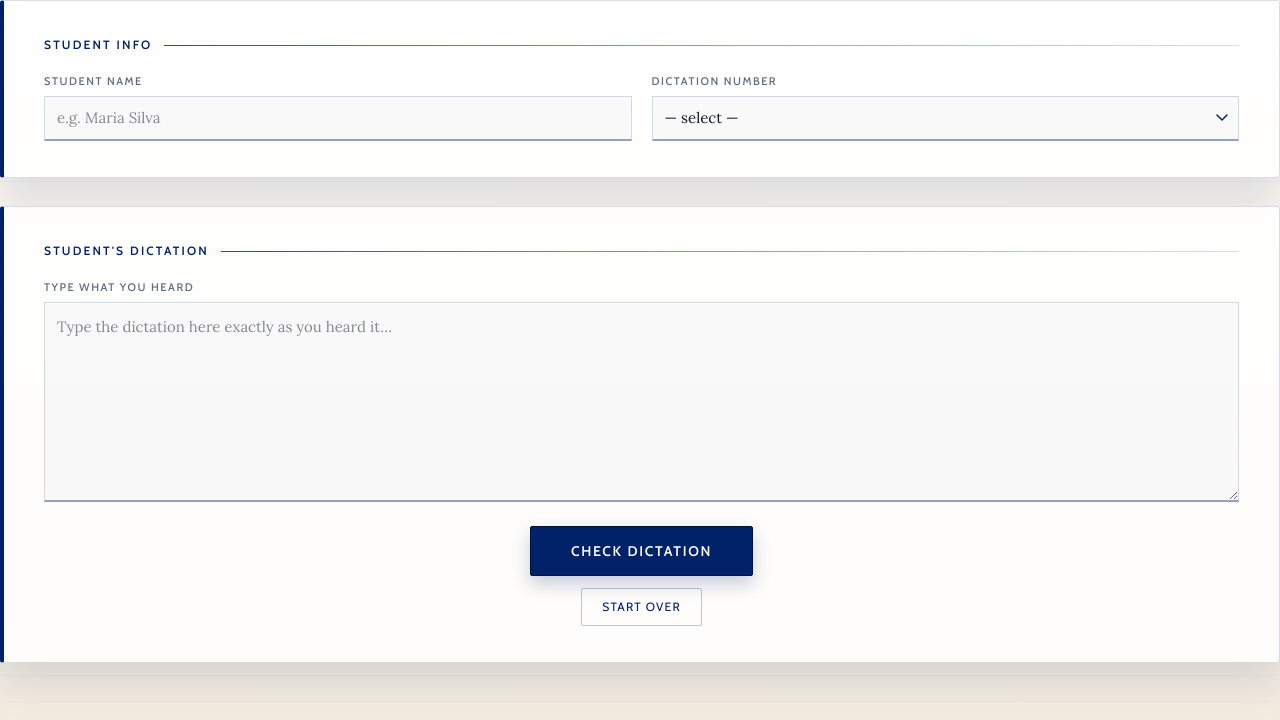
Test: DictationChecker › validation › asks for the text when it is blank
Type "Maria Silva" into the field labelled "Student Name" at [338, 118], box [44,96,632,141]
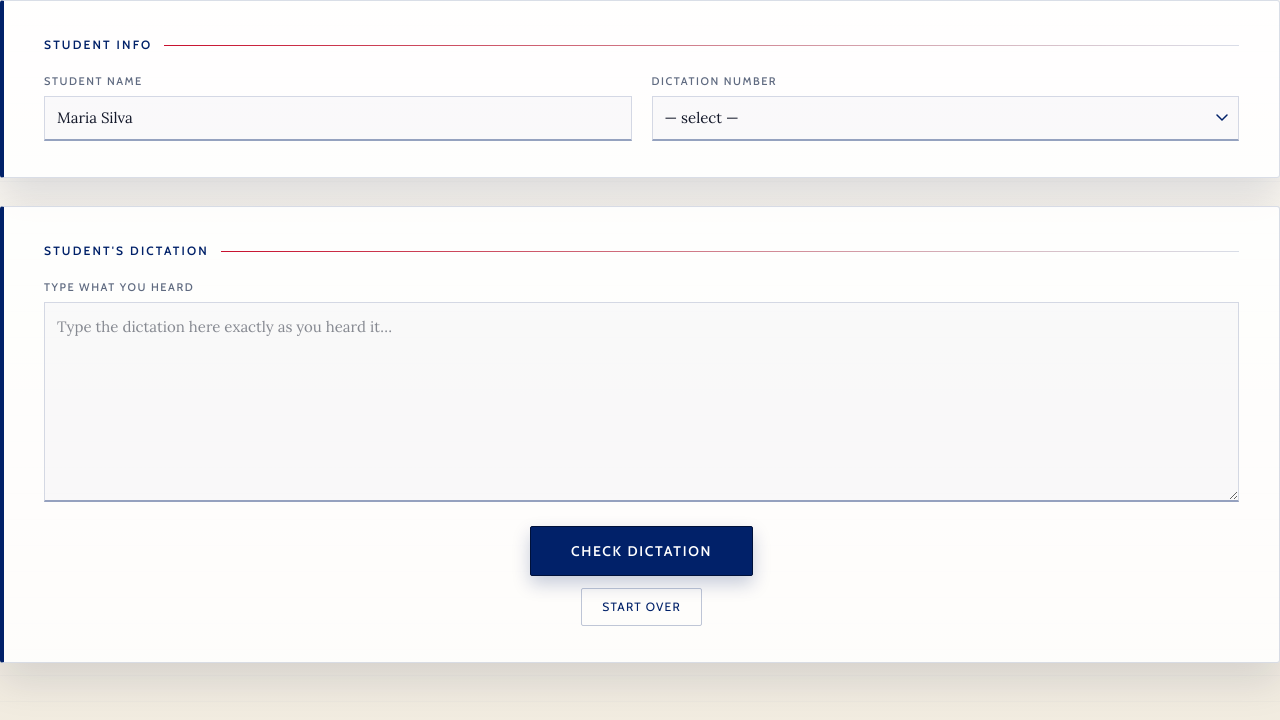
Select "Dictation 118" in the dropdown labelled "Dictation Number" at [945, 118], box [652,96,1239,141]
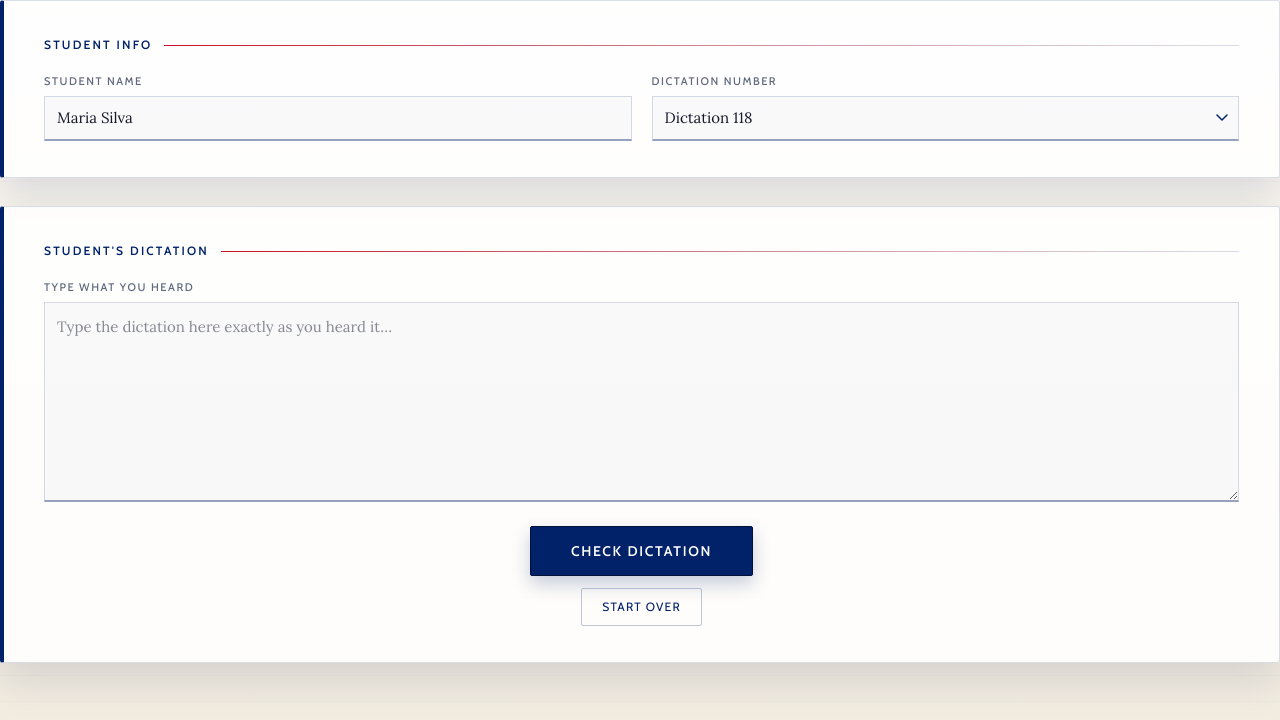
Click the button "Check Dictation" at [642, 550], box [530,526,753,576]
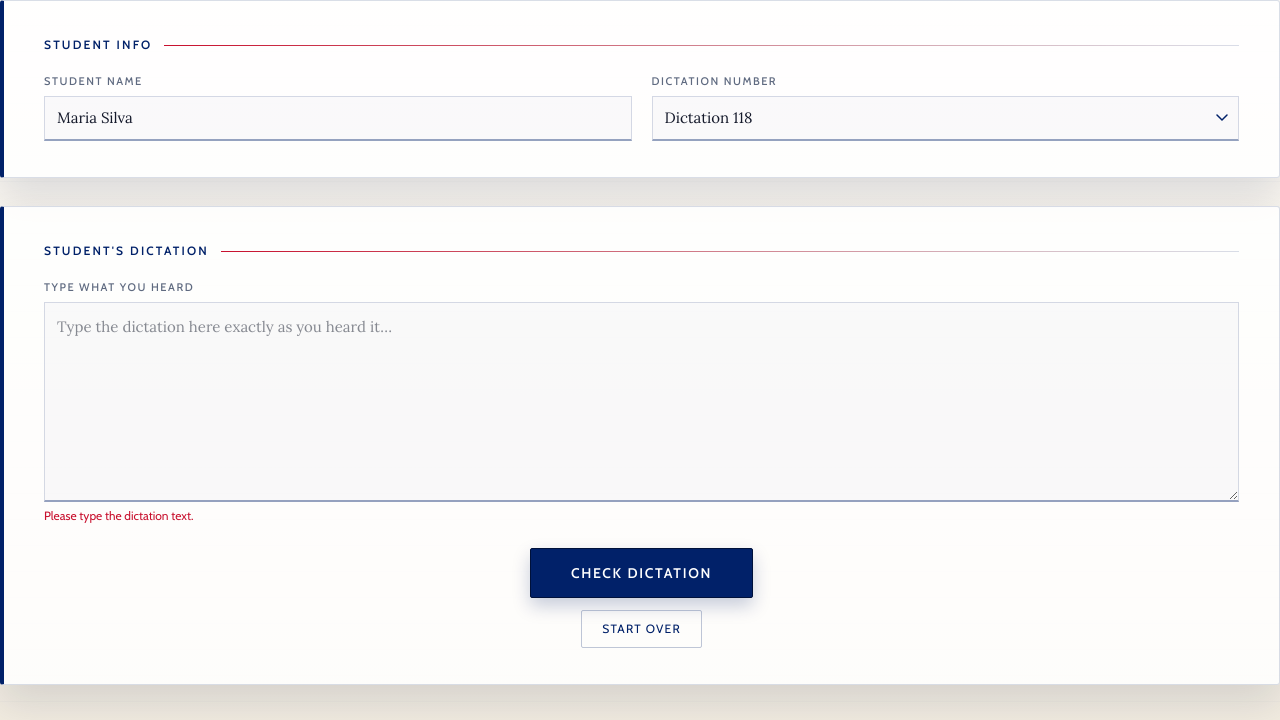
Check: the text "Please type the dictation text." is shown, box [44,508,194,522]
